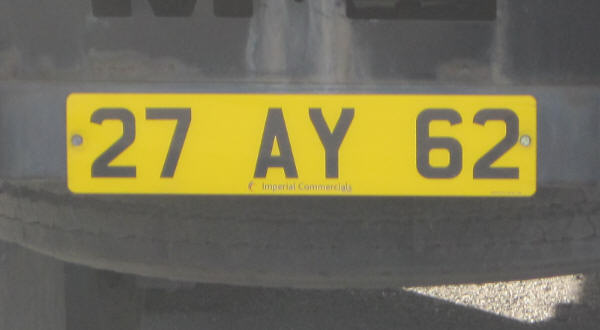license_plate: (65, 92, 538, 197)
